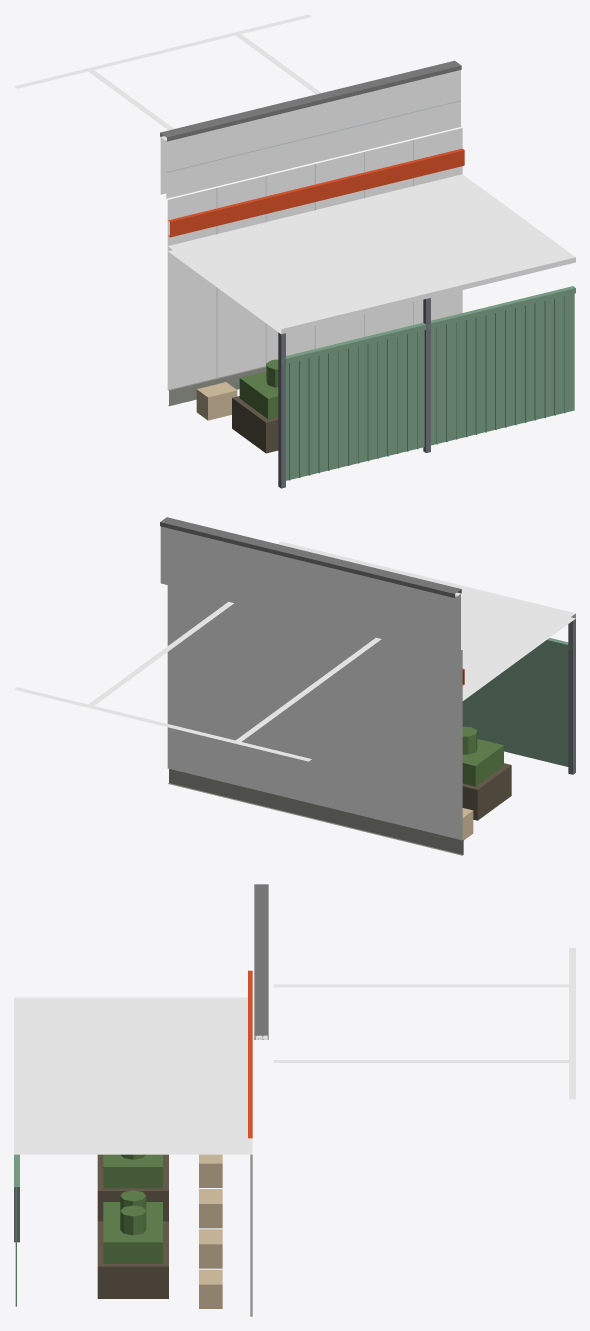
Rendered from base-w2_close.fbx.
The picture shows the model from 3 angles, top to bottom: view 1: azimuth 30°, elevation 25°; view 2: azimuth 150°, elevation 25°; view 3: azimuth 270°, elevation 25°; orthographic projection. The views are drawn at different scales.
Parts seen in each view (by area): view 1: a2008/0/base-w2_close; view 2: a2008/0/base-w2_close; view 3: a2008/0/base-w2_close.
Part boxes in pixels (left/top/right/bottom): a2008/0/base-w2_close: left=14, top=14, right=575, bottom=488; a2008/0/base-w2_close: left=14, top=517, right=575, bottom=855; a2008/0/base-w2_close: left=14, top=884, right=575, bottom=1316.
Size of the model in its own units: 6 by 5.2 by 9.42.
